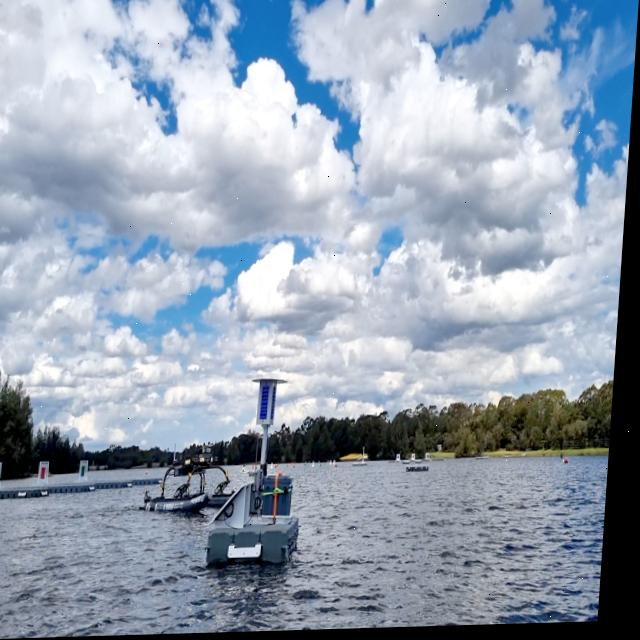led: (264, 384, 277, 424)
